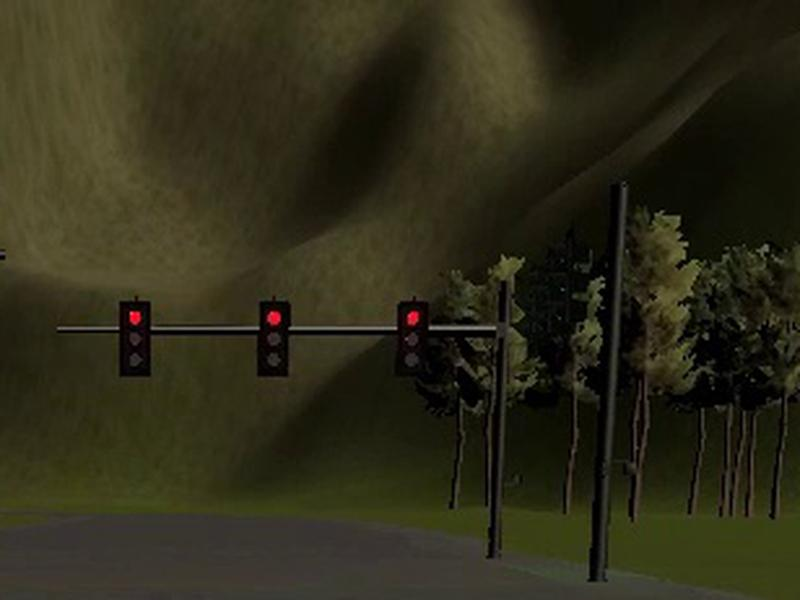Red: (257, 299, 291, 378), (119, 301, 151, 376), (396, 301, 426, 377)
